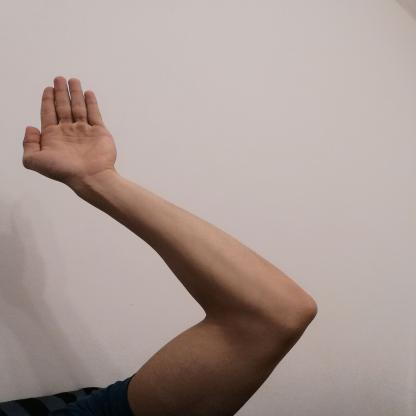SEEN: (14, 70, 125, 190)
